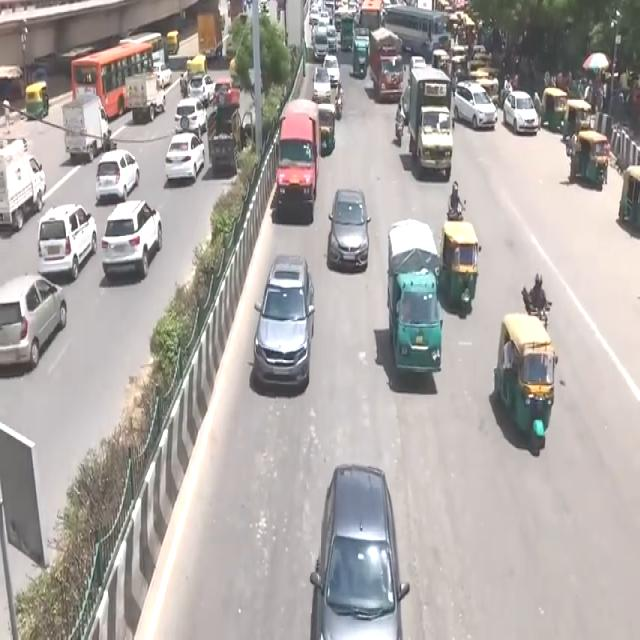BUS: (72, 40, 162, 121)
TRUCK: (274, 101, 320, 225), (409, 64, 454, 180), (0, 140, 45, 232), (366, 34, 401, 104)
